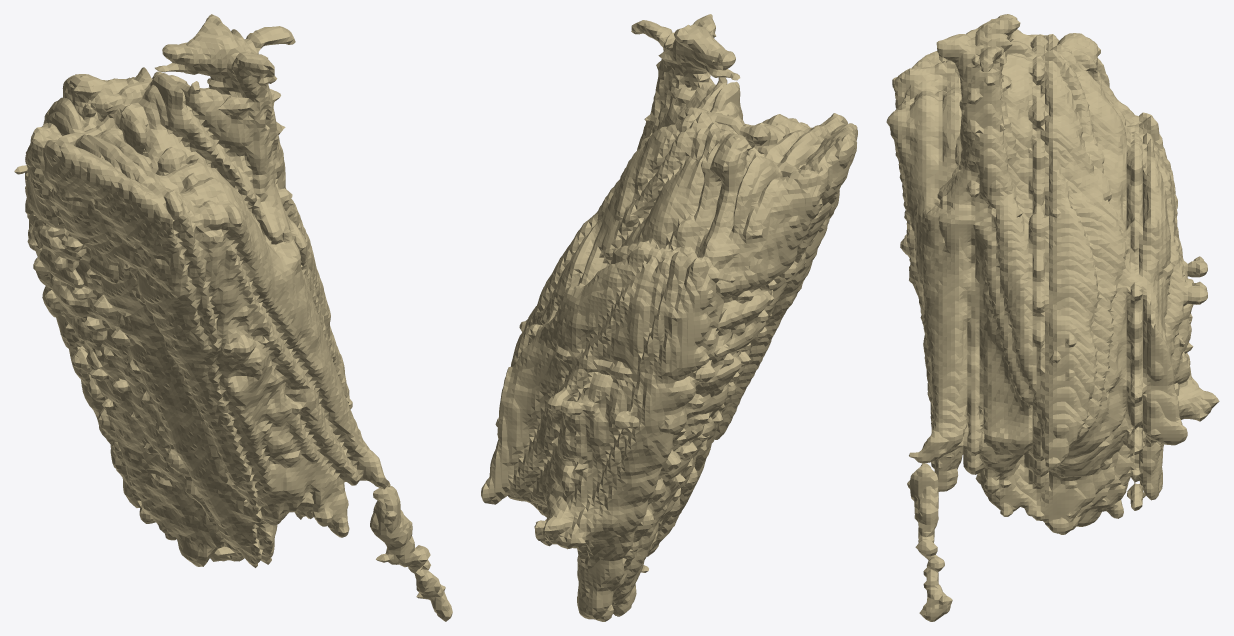
The model's file is raw.glb.
3 renders of one model, left to right at view 1: azimuth 30°, elevation 25°; view 2: azimuth 150°, elevation 25°; view 3: azimuth 270°, elevation 25°, orthographic. The views are drawn at different scales.
Visible parts, largest first — view 1: world; view 2: world; view 3: world.
Boxes of the visible parts, x1=… form: world: x1=14, y1=14, x2=452, y2=621; world: x1=481, y1=14, x2=857, y2=621; world: x1=886, y1=14, x2=1219, y2=621.
Size of the model in its own units: 1.32 by 2.15 by 1.23.
